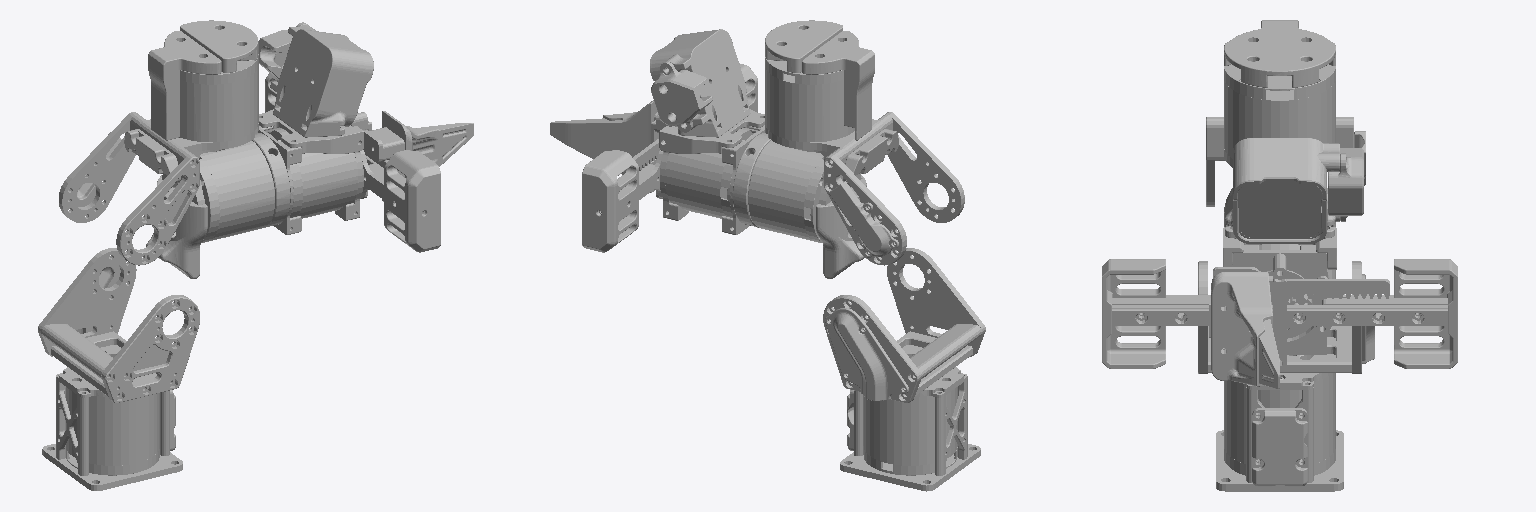
robot.urdf — wxai_follower:
<?xml version="1.0" encoding="utf-8"?>
<!-- This URDF was automatically created by SolidWorks to URDF Exporter! Originally created by [author] ([email redacted]) 
     Commit Version: 1.6.0-4-g7f85cfe  Build Version: 1.6.7995.38578
     For more information, please see http://wiki.ros.org/sw_urdf_exporter -->
<robot name="wxai_follower">
  <link name="base_link">
    <inertial>
      <origin xyz="0.00052268 -0.00005365 0.03202305" rpy="0 0 0"/>
      <mass value="0.45362020"/>
      <inertia ixx="0.00041296" ixy="-1.8e-7" ixz="-1.8e-6" iyy="0.00043677" iyz="3.8e-7" izz="0.00020350"/>
    </inertial>
    <visual>
      <origin xyz="0 0 0" rpy="0 0 0" />
      <geometry>
        <mesh filename="package://trossen_arm_description/meshes/wxai_follower/base_link.stl" />
      </geometry>
      <material name="">
        <color rgba="0.752941176470588 0.752941176470588 0.752941176470588 1" />
      </material>
    </visual>
    <collision>
      <origin xyz="0 0 0" rpy="0 0 0" />
      <geometry>
        <mesh filename="package://trossen_arm_description/meshes/wxai_follower/base_link.stl" />
      </geometry>
    </collision>
  </link>
  <link name="link_1">
    <inertial>
      <origin xyz="0.00021239 0.00381558 0.02072601" rpy="0 0 0"/>
      <mass value="0.15843428"/>
      <inertia ixx="0.00019568" ixy="5.8e-6" ixz="1.531e-5" iyy="0.00008633" iyz="5.45e-6" izz="0.00020268"/>
    </inertial>
    <visual>
      <origin xyz="0 0 0" rpy="0 0 0" />
      <geometry>
        <mesh filename="package://trossen_arm_description/meshes/wxai_follower/link_1.stl" />
      </geometry>
      <material name="">
        <color rgba="0.752941176470588 0.752941176470588 0.752941176470588 1" />
      </material>
    </visual>
    <collision>
      <origin xyz="0 0 0" rpy="0 0 0" />
      <geometry>
        <mesh filename="package://trossen_arm_description/meshes/wxai_follower/link_1.stl" />
      </geometry>
    </collision>
  </link>
  <joint name="joint_0" type="revolute">
    <origin xyz="0 0 0.05725" rpy="0 0 0" />
    <parent link="base_link" />
    <child link="link_1" />
    <axis xyz="0 0 1" />
    <limit lower="-3.14" upper="3.14" effort="0" velocity="0" />
  </joint>
  <link name="link_2">
    <inertial>
      <origin xyz="-0.13013162 -0.00289256 0.00043205" rpy="0 0 0"/>
      <mass value="1.18618542"/>
      <inertia ixx="0.00105929" ixy="4.62e-6" ixz="6.11e-5" iyy="0.01757805" iyz="1.87e-6" izz="0.01814288"/>
    </inertial>
    <visual>
      <origin xyz="0 0 0" rpy="0 0 0" />
      <geometry>
        <mesh filename="package://trossen_arm_description/meshes/wxai_follower/link_2.stl" />
      </geometry>
      <material name="">
        <color rgba="0.752941176470588 0.752941176470588 0.752941176470588 1" />
      </material>
    </visual>
    <collision>
      <origin xyz="0 0 0" rpy="0 0 0" />
      <geometry>
        <mesh filename="package://trossen_arm_description/meshes/wxai_follower/link_2.stl" />
      </geometry>
    </collision>
  </link>
  <joint name="joint_1" type="revolute">
    <origin xyz="0.02 0 0.04625" rpy="0 0 0" />
    <parent link="link_1" />
    <child link="link_2" />
    <axis xyz="0 -1 0" />
    <limit lower="-3.14" upper="3.14" effort="0" velocity="0" />
  </joint>
  <link name="link_3">
    <inertial>
      <origin xyz="0.20081085 -0.00148559 0.05715902" rpy="0 0 0"/>
      <mass value="1.08254926"/>
      <inertia ixx="0.00096248" ixy="-1.11e-4" ixz="5.91e-4" iyy="0.00690323" iyz="-1.21e-5" izz="0.00717548"/>
    </inertial>
    <visual>
      <origin xyz="0 0 0" rpy="0 0 0" />
      <geometry>
        <mesh filename="package://trossen_arm_description/meshes/wxai_follower/link_3.stl" />
      </geometry>
      <material name="">
        <color rgba="0.752941176470588 0.752941176470588 0.752941176470588 1" />
      </material>
    </visual>
    <collision>
      <origin xyz="0 0 0" rpy="0 0 0" />
      <geometry>
        <mesh filename="package://trossen_arm_description/meshes/wxai_follower/link_3.stl" />
      </geometry>
    </collision>
  </link>
  <joint name="joint_2" type="revolute">
    <origin xyz="-0.264 0 0" rpy="0 0 0" />
    <parent link="link_2" />
    <child link="link_3" />
    <axis xyz="0 -1 0" />
    <limit lower="-3.14" upper="3.14" effort="0" velocity="0" />
  </joint>
  <link name="link_4">
    <inertial>
      <origin xyz="0.05715387 0.00034278 0.05714934" rpy="0 0 0"/>
      <mass value="0.43735051"/>
      <inertia ixx="0.00051288" ixy="-7.84e-6" ixz="1.73e-4" iyy="0.00062611" iyz="-7.96e-6" izz="0.00040480"/>
    </inertial>
    <visual>
      <origin xyz="0 0 0" rpy="0 0 0" />
      <geometry>
        <mesh filename="package://trossen_arm_description/meshes/wxai_follower/link_4.stl" />
      </geometry>
      <material name="">
        <color rgba="0.752941176470588 0.752941176470588 0.752941176470588 1" />
      </material>
    </visual>
    <collision>
      <origin xyz="0 0 0" rpy="0 0 0" />
      <geometry>
        <mesh filename="package://trossen_arm_description/meshes/wxai_follower/link_4.stl" />
      </geometry>
    </collision>
  </link>
  <joint name="joint_3" type="revolute">
    <origin xyz="0.245 0 0.06" rpy="0 0 0" />
    <parent link="link_3" />
    <child link="link_4" />
    <axis xyz="0 -1 0" />
    <limit lower="-3.14" upper="3.14" effort="0" velocity="0" />
  </joint>
  <link name="link_5">
    <inertial>
      <origin xyz="0.00386239 -0.00001131 -0.04318054" rpy="0 0 0"/>
      <mass value="0.36982410"/>
      <inertia ixx="0.00018840" ixy="4.5e-7" ixz="2.45e-6" iyy="0.00032339" iyz="-3e-8" izz="0.00026992"/>
    </inertial>
    <visual>
      <origin xyz="0 0 0" rpy="0 0 0" />
      <geometry>
        <mesh filename="package://trossen_arm_description/meshes/wxai_follower/link_5.stl" />
      </geometry>
      <material name="">
        <color rgba="0.752941176470588 0.752941176470588 0.752941176470588 1" />
      </material>
    </visual>
    <collision>
      <origin xyz="0 0 0" rpy="0 0 0" />
      <geometry>
        <mesh filename="package://trossen_arm_description/meshes/wxai_follower/link_5.stl" />
      </geometry>
    </collision>
  </link>
  <joint name="joint_4" type="revolute">
    <origin xyz="0.06775 0 0.0455" rpy="0 0 0" />
    <parent link="link_4" />
    <child link="link_5" />
    <axis xyz="0 0 -1" />
    <limit lower="-3.14" upper="3.14" effort="0" velocity="0" />
  </joint>
  <link name="link_6">
    <inertial>
      <origin xyz="0.04551 0.00051 0.00947" rpy="0 0 0"/>
      <mass value="0.63463"/>
      <inertia ixx="0.86891" ixy="-0.00023699" ixz="0.04879" iyy="0.75399" iyz="0.01658" izz="0.88386"/>
    </inertial>
    <visual>
      <origin xyz="0 0 0" rpy="0 0 0" />
      <geometry>
        <mesh filename="package://trossen_arm_description/meshes/wxai_follower/link_6.stl" />
      </geometry>
      <material name="">
        <color rgba="0.752941176470588 0.752941176470588 0.752941176470588 1" />
      </material>
    </visual>
    <collision>
      <origin xyz="0 0 0" rpy="0 0 0" />
      <geometry>
        <mesh filename="package://trossen_arm_description/meshes/wxai_follower/link_6.stl" />
      </geometry>
    </collision>
  </link>
  <joint name="joint_5" type="revolute">
    <origin xyz="0.02895 0 -0.0455" rpy="0 0 0" />
    <parent link="link_5" />
    <child link="link_6" />
    <axis xyz="1 0 0" />
    <limit lower="-3.14" upper="3.14" effort="0" velocity="0" />
  </joint>
  <link name="gripper_left">
    <inertial>
      <origin xyz="0.00780825 -0.00528697 -0.00368479" rpy="0 0 0"/>
      <mass value="0.07618477"/>
      <inertia ixx="0.00002759" ixy="-0.00000495" ixz="-0.00000052" iyy="0.00003194" iyz="0.00000327" izz="0.00003791"/>
    </inertial>
    <visual>
      <origin xyz="0 0 0" rpy="0 0 0" />
      <geometry>
        <mesh filename="package://trossen_arm_description/meshes/wxai_follower/gripper_left.stl" />
      </geometry>
      <material name="">
        <color rgba="0.752941176470588 0.752941176470588 0.752941176470588 1" />
      </material>
    </visual>
    <collision>
      <origin xyz="0 0 0" rpy="0 0 0" />
      <geometry>
        <mesh filename="package://trossen_arm_description/meshes/wxai_follower/gripper_left.stl" />
      </geometry>
    </collision>
  </link>
  <joint name="joint_gl" type="prismatic">
    <origin xyz="0.078 0.021375 0" rpy="0 0 0" />
    <parent link="link_6" />
    <child link="gripper_left" />
    <axis xyz="0 1 0" />
    <limit lower="0" upper="0.05" effort="0" velocity="0" />
  </joint>
  <link name="gripper_right">
    <inertial>
      <origin xyz="0.00780824 0.00528691 0.00221090" rpy="0 0 0"/>
      <mass value="0.07618477"/>
      <inertia ixx="0.00002759" ixy="0.00000495" ixz="-0.00000275" iyy="0.00003194" iyz="0.00000203" izz="0.00003791"/>
    </inertial>
    <visual>
      <origin xyz="0 0 0" rpy="0 0 0" />
      <geometry>
        <mesh filename="package://trossen_arm_description/meshes/wxai_follower/gripper_right.stl" />
      </geometry>
      <material name="">
        <color rgba="0.752941176470588 0.752941176470588 0.752941176470588 1" />
      </material>
    </visual>
    <collision>
      <origin xyz="0 0 0" rpy="0 0 0" />
      <geometry>
        <mesh filename="package://trossen_arm_description/meshes/wxai_follower/gripper_right.stl" />
      </geometry>
    </collision>
  </link>
  <joint name="joint_gr" type="prismatic">
    <origin xyz="0.078 -0.021375 0" rpy="0 0 0" />
    <parent link="link_6" />
    <child link="gripper_right" />
    <axis xyz="0 -1 0" />
    <limit lower="0" upper="0.05" effort="0" velocity="0" />
  </joint>
</robot>

--- Render facts (derived) ---
3 views of the same robot in one strip: view 1: azimuth 30°, elevation 25°; view 2: azimuth 150°, elevation 25°; view 3: azimuth 270°, elevation 25° (orthographic).
Model wxai_follower with 9 links and 8 joints (6 revolute, 2 prismatic), rooted at base_link, posed every joint at zero.
Links seen in each view (by area): view 1: link_6, link_4, link_1, base_link, link_5, gripper_right; view 2: link_6, link_4, link_1, base_link, link_5, gripper_right; view 3: link_6, link_4, base_link, gripper_right, link_1.
Link boxes in pixels (bbox=[...]): link_6: bbox=[252, 22, 440, 252]; link_4: bbox=[59, 20, 258, 265]; link_1: bbox=[38, 248, 199, 402]; base_link: bbox=[42, 367, 182, 490]; link_5: bbox=[146, 141, 274, 278]; gripper_right: bbox=[363, 111, 473, 201]; link_6: bbox=[582, 29, 770, 252]; link_4: bbox=[765, 20, 964, 265]; link_1: bbox=[823, 248, 985, 402]; base_link: bbox=[840, 367, 980, 491]; link_5: bbox=[748, 140, 866, 278]; gripper_right: bbox=[550, 100, 659, 192]; link_6: bbox=[1102, 138, 1457, 368]; link_4: bbox=[1206, 20, 1365, 206]; base_link: bbox=[1216, 373, 1343, 491]; gripper_right: bbox=[1209, 267, 1389, 388]; link_1: bbox=[1198, 261, 1374, 373].
Bounding box of the posed robot: 0.2841 × 0.1806 × 0.265 m (x, y, z).
Meshes: 9 distinct files referenced, 6 mesh visuals loaded (6 binary STL); not drawn: 3 (reference not matched to a file when rendering).